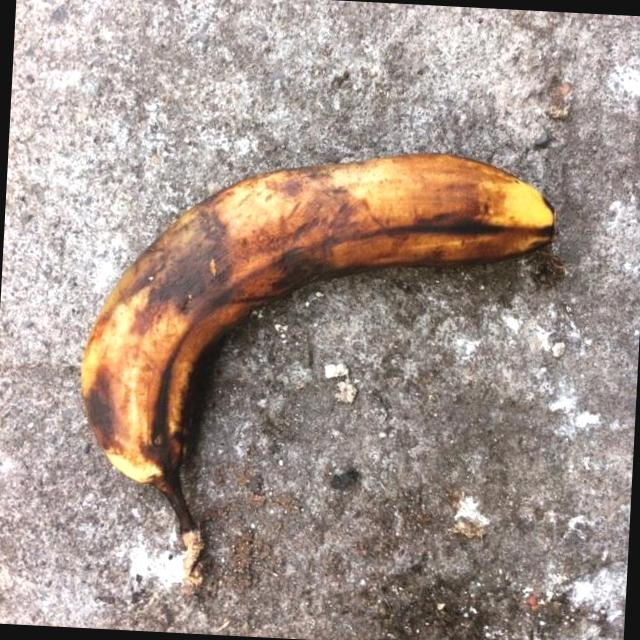Banana: (43, 144, 591, 574)
